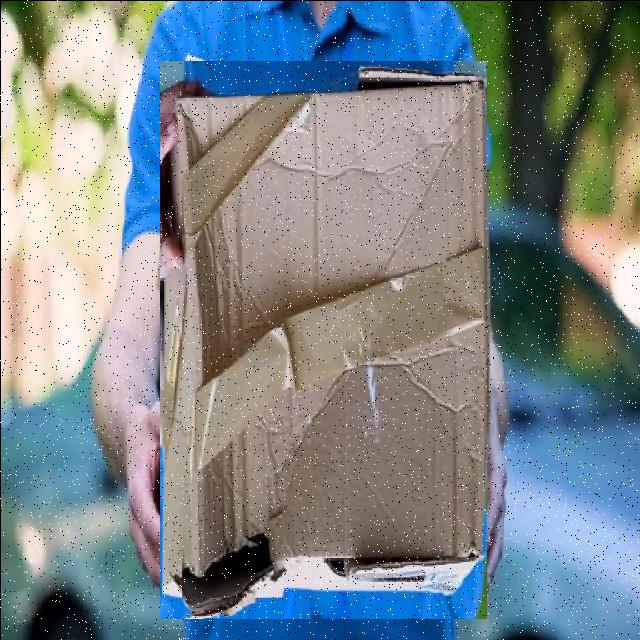defect: (159, 60, 486, 618)
